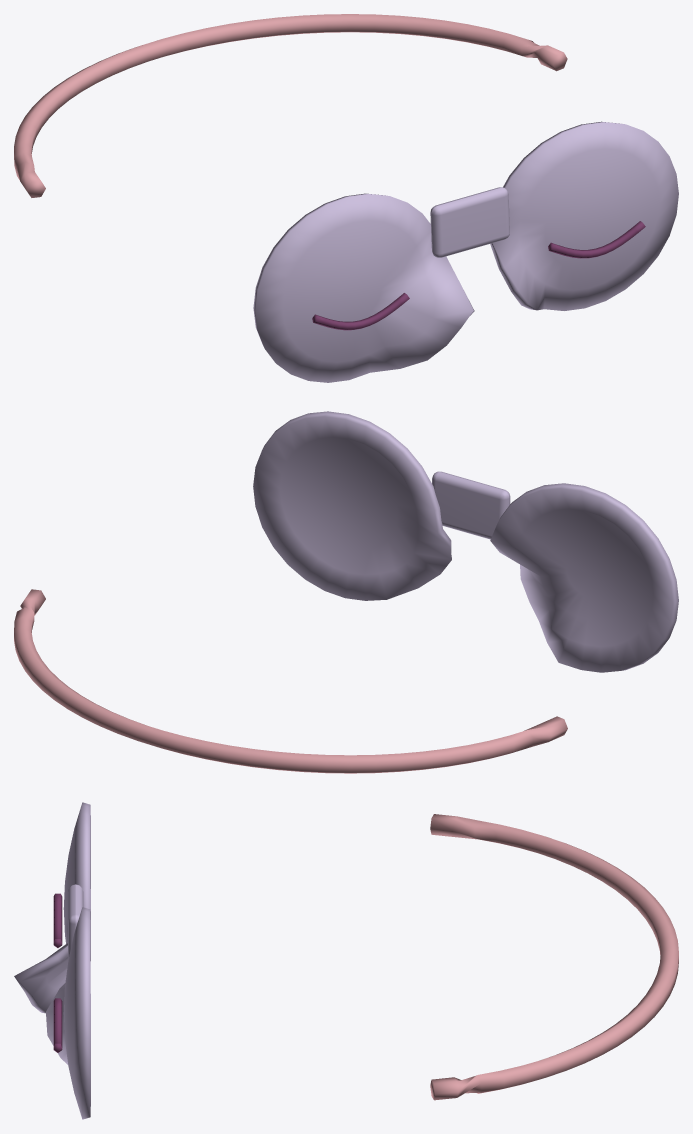
File: sleep_mask.glb
3 renders of one model, top to bottom at view 1: azimuth 30°, elevation 25°; view 2: azimuth 150°, elevation 25°; view 3: azimuth 270°, elevation 25°, orthographic. The views are drawn at different scales.
Parts seen in each view (by area): view 1: Padded sleeping mask 0, Padded sleeping mask 1, Rose sleep mask elastic, Soft mask nose bridge, Embroidered sleeping eye 1, Embroidered sleeping eye 0; view 2: Padded sleeping mask 1, Padded sleeping mask 0, Rose sleep mask elastic, Soft mask nose bridge; view 3: Rose sleep mask elastic, Padded sleeping mask 1, Padded sleeping mask 0, Soft mask nose bridge, Embroidered sleeping eye 0, Embroidered sleeping eye 1.
Part boxes in pixels (left/top/right/bottom): Padded sleeping mask 0: left=253, top=193, right=474, bottom=382; Padded sleeping mask 1: left=490, top=121, right=678, bottom=310; Rose sleep mask elastic: left=14, top=14, right=567, bottom=197; Soft mask nose bridge: left=430, top=187, right=509, bottom=257; Embroidered sleeping eye 1: left=548, top=221, right=645, bottom=258; Embroidered sleeping eye 0: left=312, top=293, right=409, bottom=330; Padded sleeping mask 1: left=253, top=411, right=451, bottom=600; Padded sleeping mask 0: left=490, top=483, right=678, bottom=672; Rose sleep mask elastic: left=14, top=589, right=567, bottom=773; Soft mask nose bridge: left=432, top=471, right=510, bottom=539; Rose sleep mask elastic: left=430, top=814, right=678, bottom=1100; Padded sleeping mask 1: left=46, top=907, right=90, bottom=1119; Padded sleeping mask 0: left=14, top=802, right=90, bottom=1013; Soft mask nose bridge: left=68, top=884, right=83, bottom=961; Embroidered sleeping eye 0: left=53, top=893, right=62, bottom=947; Embroidered sleeping eye 1: left=53, top=998, right=62, bottom=1052.
Bounding box in the file's own units: 1.11 × 0.388 × 1.14.
